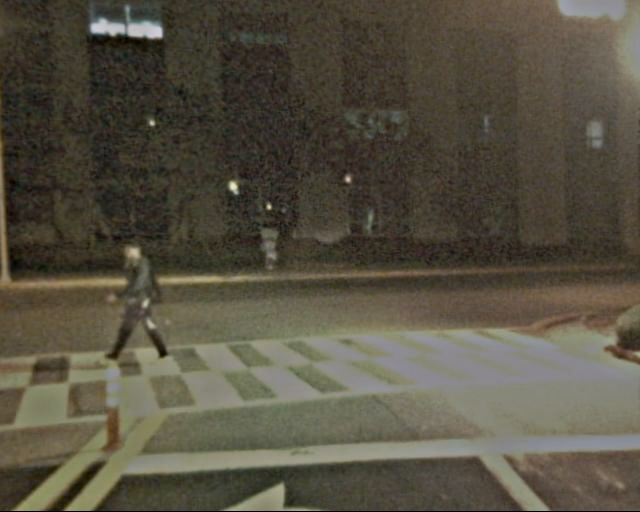person: (104, 235, 169, 372)
